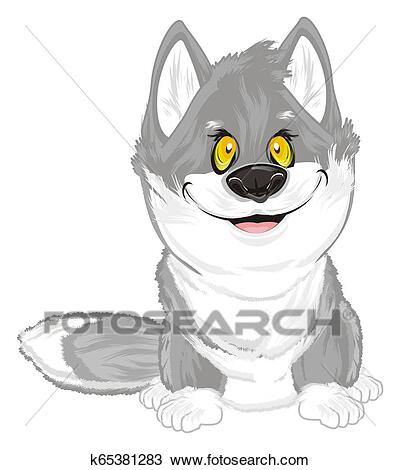Lobo: (117, 19, 391, 436)
